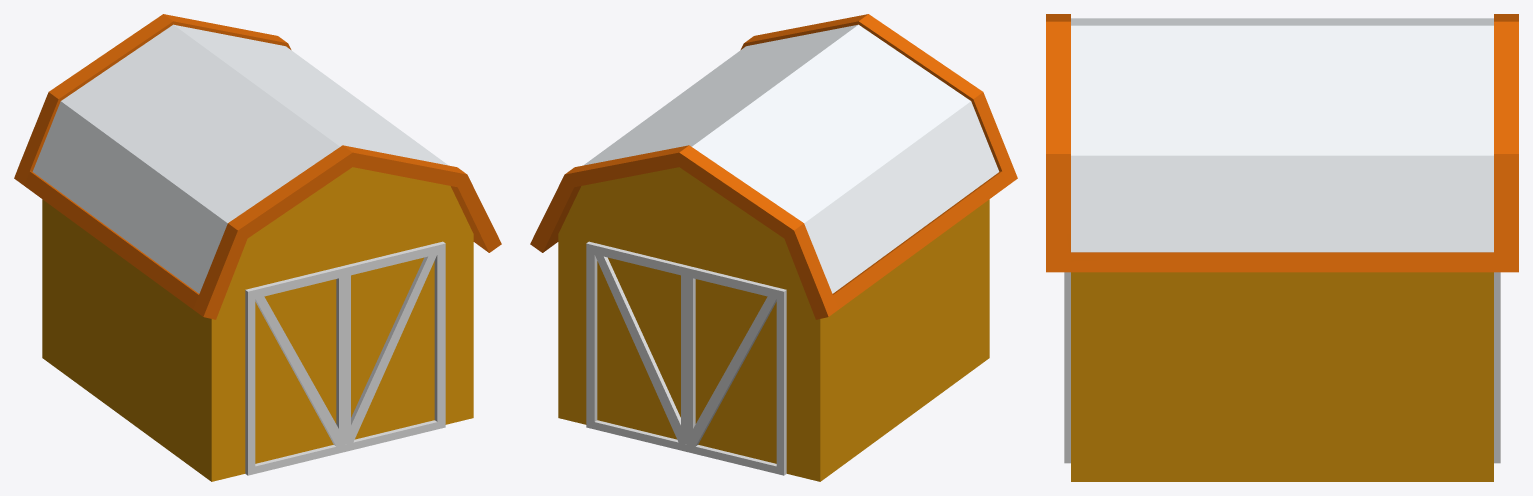
The model's file is Barn.fbx.
3 views of the same model, side by side, from view 1: azimuth 30°, elevation 25°; view 2: azimuth 150°, elevation 25°; view 3: azimuth 270°, elevation 25° (orthographic). The views are drawn at different scales.
Visible parts, largest first — view 1: 003, 001, 002, 004; view 2: 003, 001, 002, 004; view 3: 001, 003, 002, 004.
Boxes of the visible parts, x1,y1,x2,y2 form: 003: [42, 167, 473, 481]; 001: [32, 24, 448, 293]; 002: [14, 14, 501, 319]; 004: [245, 241, 445, 475]; 003: [558, 167, 989, 481]; 001: [583, 24, 999, 293]; 002: [530, 14, 1017, 319]; 004: [586, 241, 786, 475]; 001: [1071, 18, 1493, 252]; 003: [1071, 272, 1493, 481]; 002: [1046, 14, 1518, 272]; 004: [1064, 272, 1500, 463].
Bounding box in the file's own units: 2222 × 2167 × 2441.
